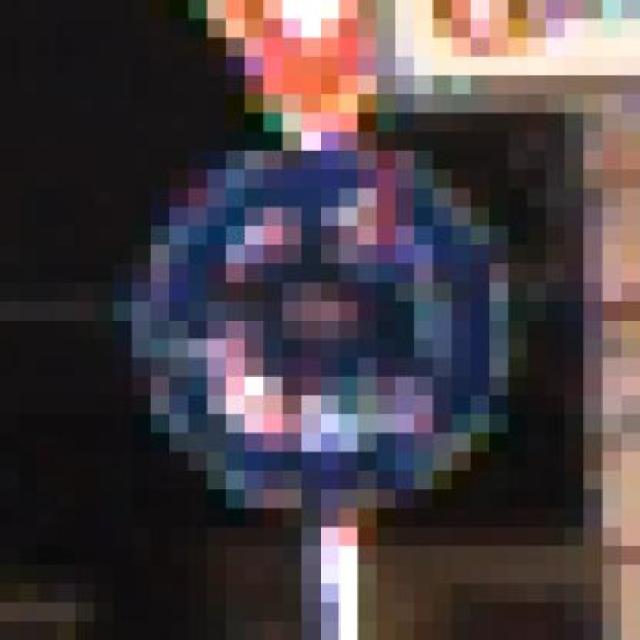Round-About: (93, 94, 564, 528)
